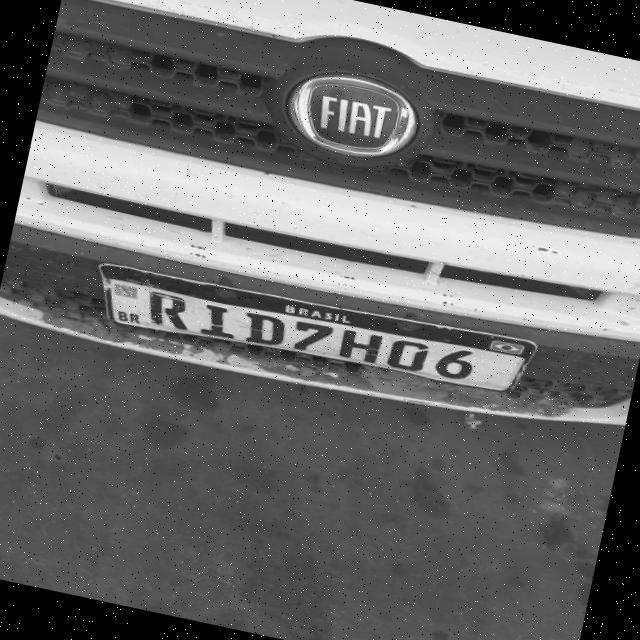placa_mercosul: (98, 263, 535, 390)
